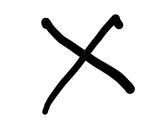mult: (40, 15, 139, 120)
